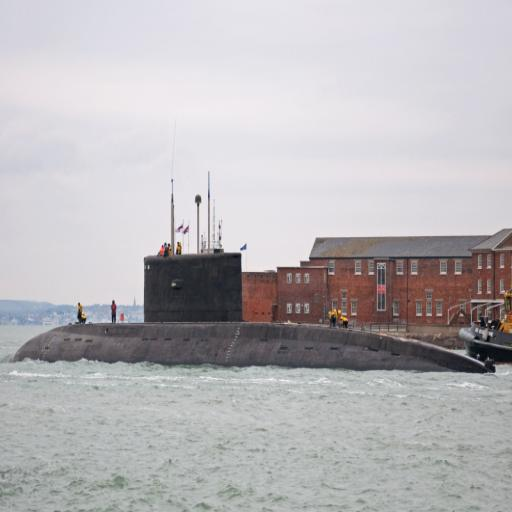submarine: (9, 173, 498, 372)
